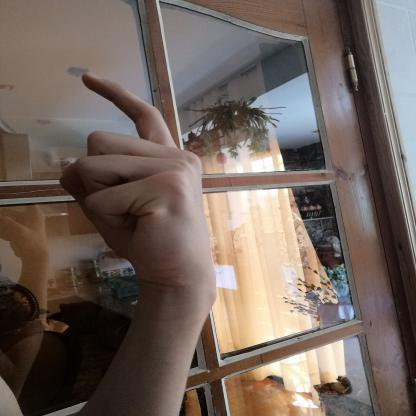RAA: (46, 63, 227, 299)
